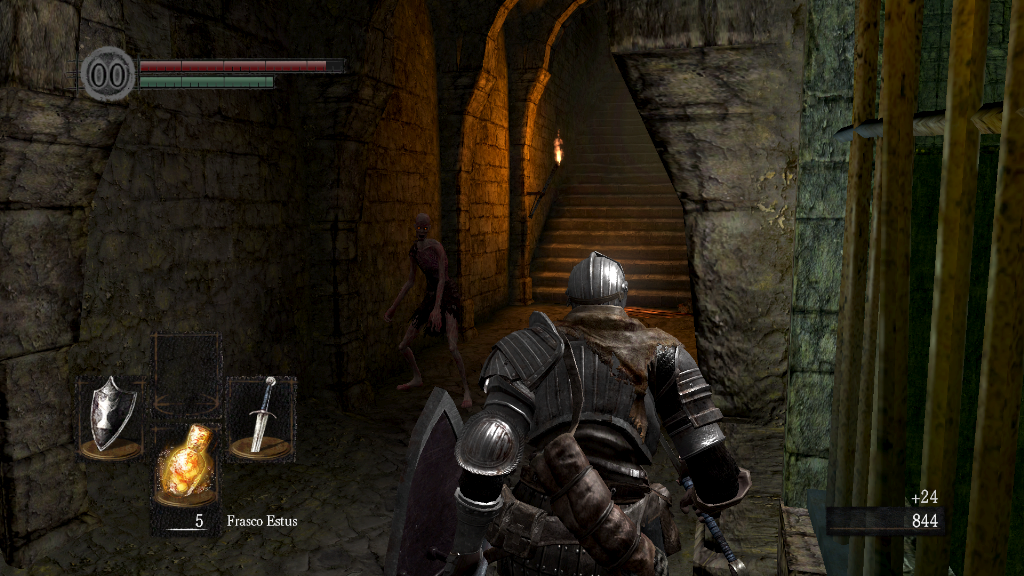health: (138, 58, 343, 71)
hollow: (387, 211, 474, 403)
humanity: (80, 45, 136, 102)
player: (385, 252, 755, 576)
souls: (825, 506, 945, 536)
stamina: (138, 74, 274, 88)
